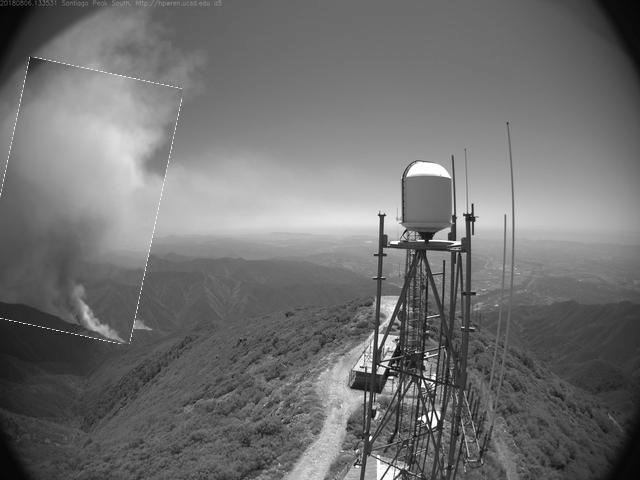smoke: (1, 64, 171, 340)
